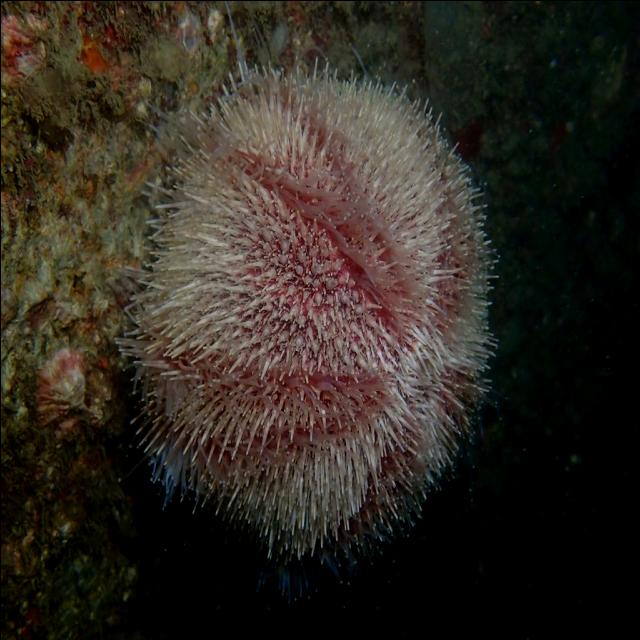Deniz Kestanesi: (112, 52, 501, 606)
